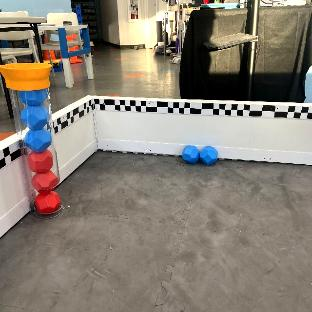V5_BLUE: (181, 145, 218, 164), (24, 126, 51, 150), (21, 104, 48, 128)
V5_RED: (35, 191, 58, 213)
